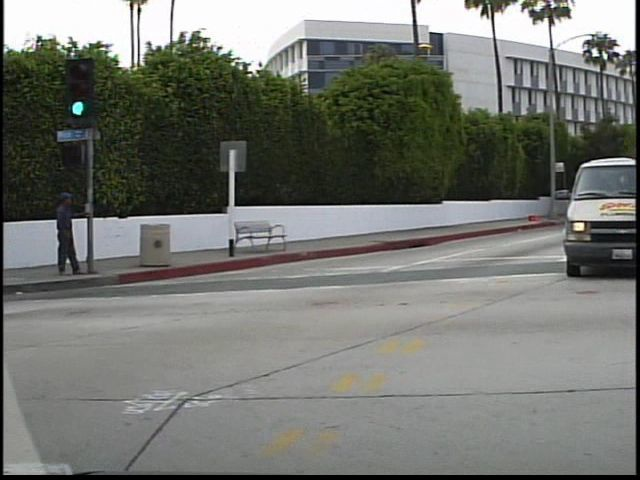person: (48, 189, 88, 280)
